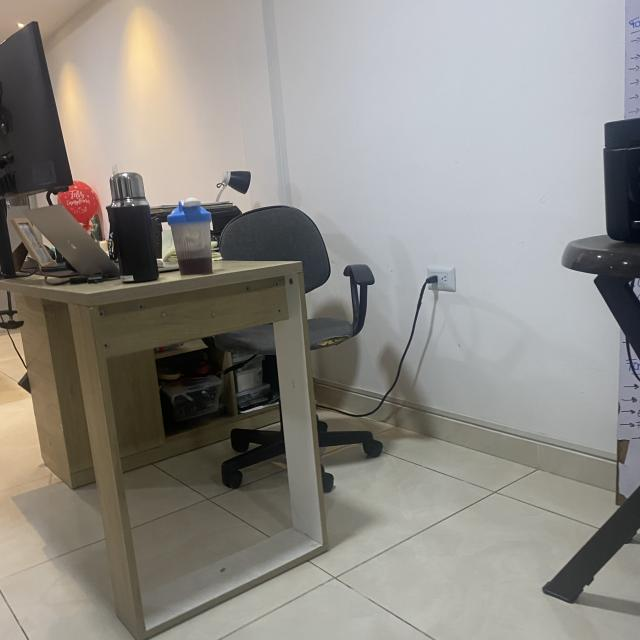obstacle: (21, 187, 374, 639), (530, 106, 640, 611)
